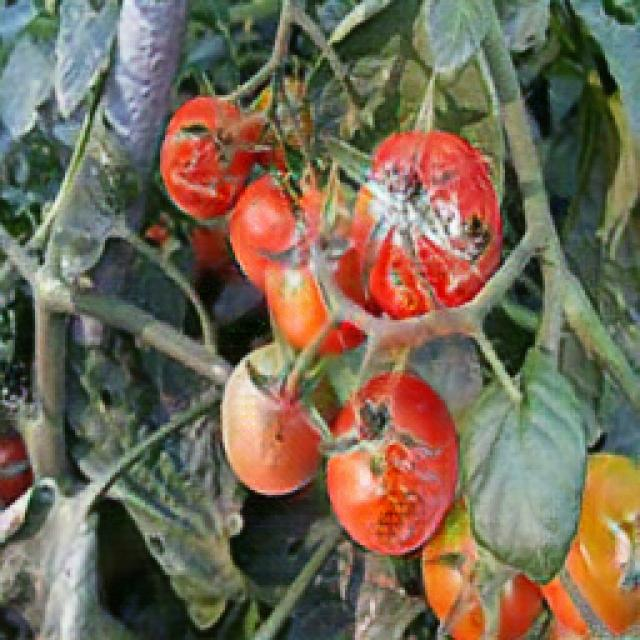overripe tomato: (351, 134, 497, 318), (321, 375, 462, 554), (157, 93, 250, 225)
